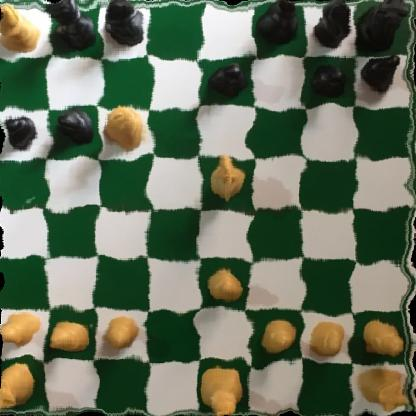black-bishop: (260, 0, 303, 47), (107, 0, 148, 49)
black-king: (49, 0, 100, 53)
black-knight: (314, 0, 353, 52)
black-pawn: (361, 51, 402, 95), (52, 107, 96, 146), (309, 59, 344, 104), (208, 62, 249, 100), (0, 114, 40, 149)
black-rook: (355, 0, 407, 50)
white-bishop: (0, 3, 42, 54)
white-king: (199, 358, 248, 416)
white-knight: (207, 151, 246, 205)
white-pawn: (360, 316, 403, 362), (47, 312, 93, 354), (0, 305, 41, 349), (305, 317, 349, 358), (101, 311, 144, 351), (258, 314, 298, 357), (208, 265, 244, 305)
white-queen: (104, 105, 152, 154)
white-rook: (351, 362, 413, 414), (0, 361, 42, 412)
